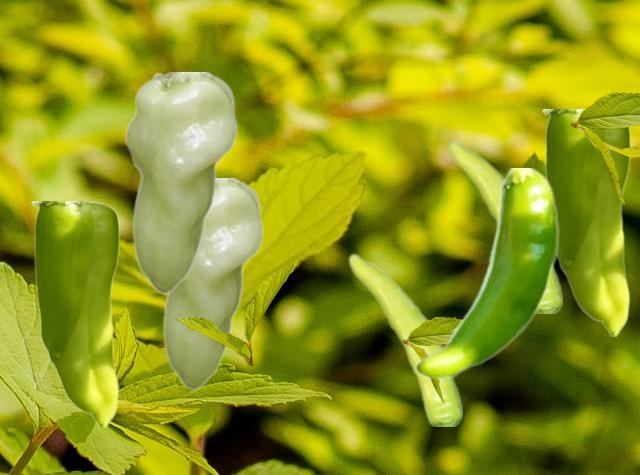green_chili: (413, 168, 559, 379), (122, 72, 236, 293), (161, 178, 262, 389), (541, 109, 629, 335), (30, 201, 118, 427), (448, 139, 561, 312), (348, 252, 461, 425)
